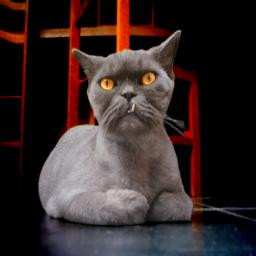catnose: (121, 86, 136, 102)
